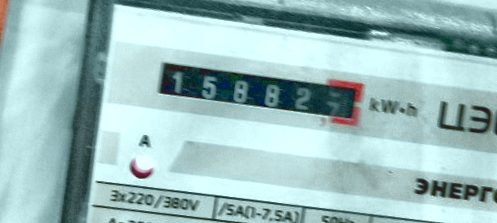1: (168, 69, 185, 96)
2: (293, 84, 312, 112)
5: (198, 73, 218, 100)
7: (323, 98, 340, 116)
8: (229, 78, 250, 104), (261, 80, 280, 107)
screen: (142, 46, 374, 137)
